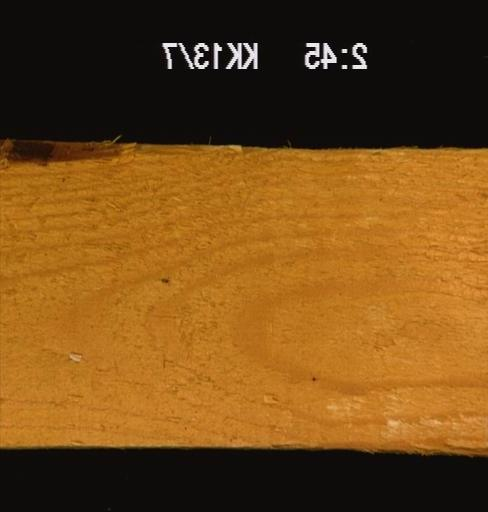small_knot: (159, 272, 172, 287)
wave: (3, 137, 123, 165)
